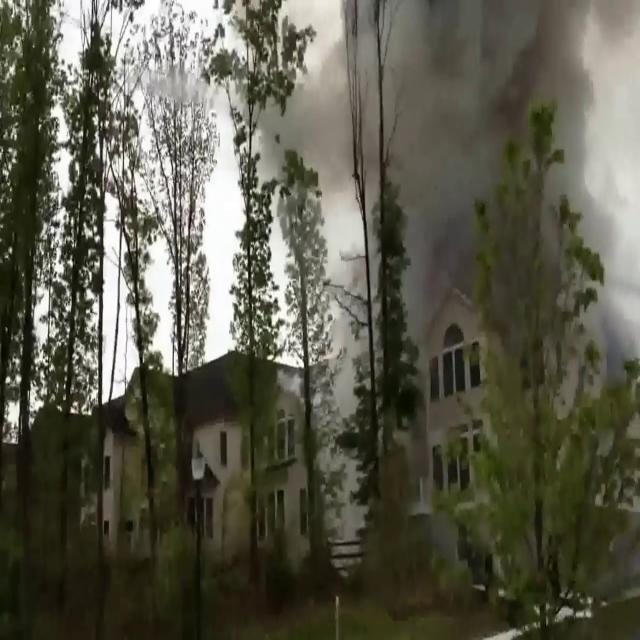Smoke: (292, 0, 638, 350)
